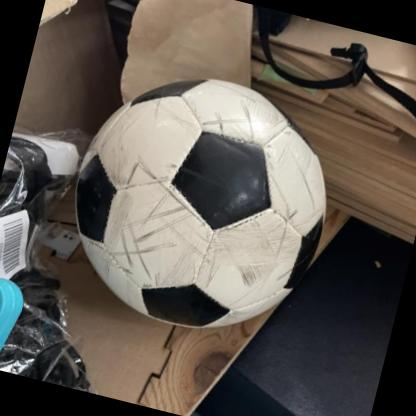ball: (46, 53, 354, 356)
